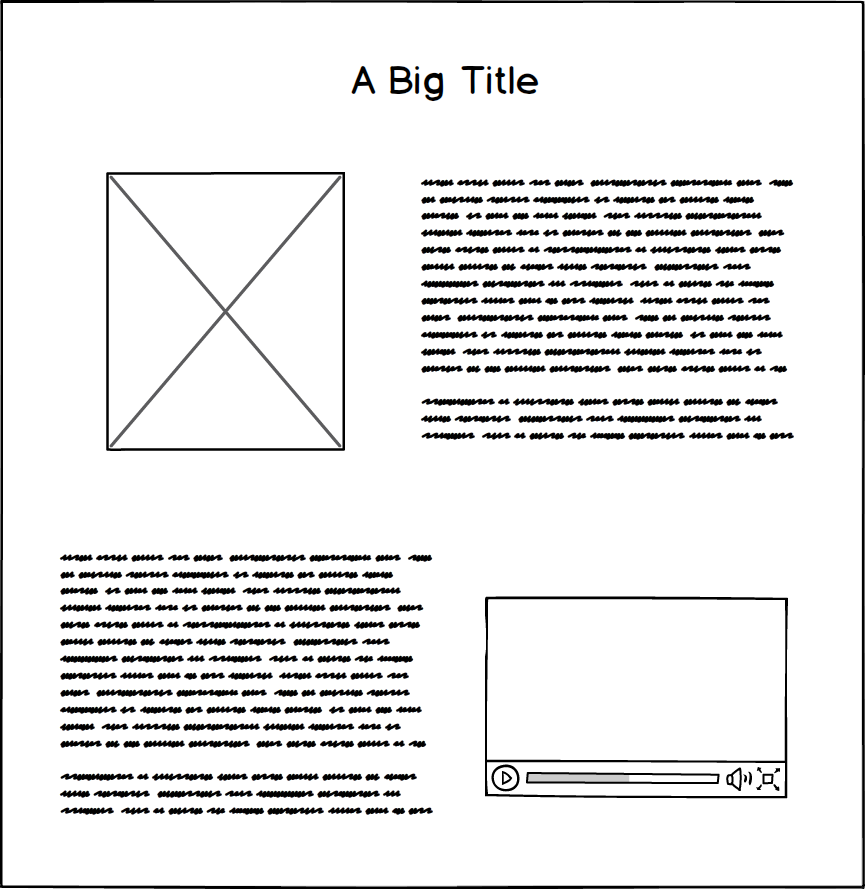h1: (344, 50, 545, 108)
image: (101, 167, 355, 458)
p: (55, 547, 456, 825), (418, 174, 811, 451)
video: (479, 589, 798, 804)
